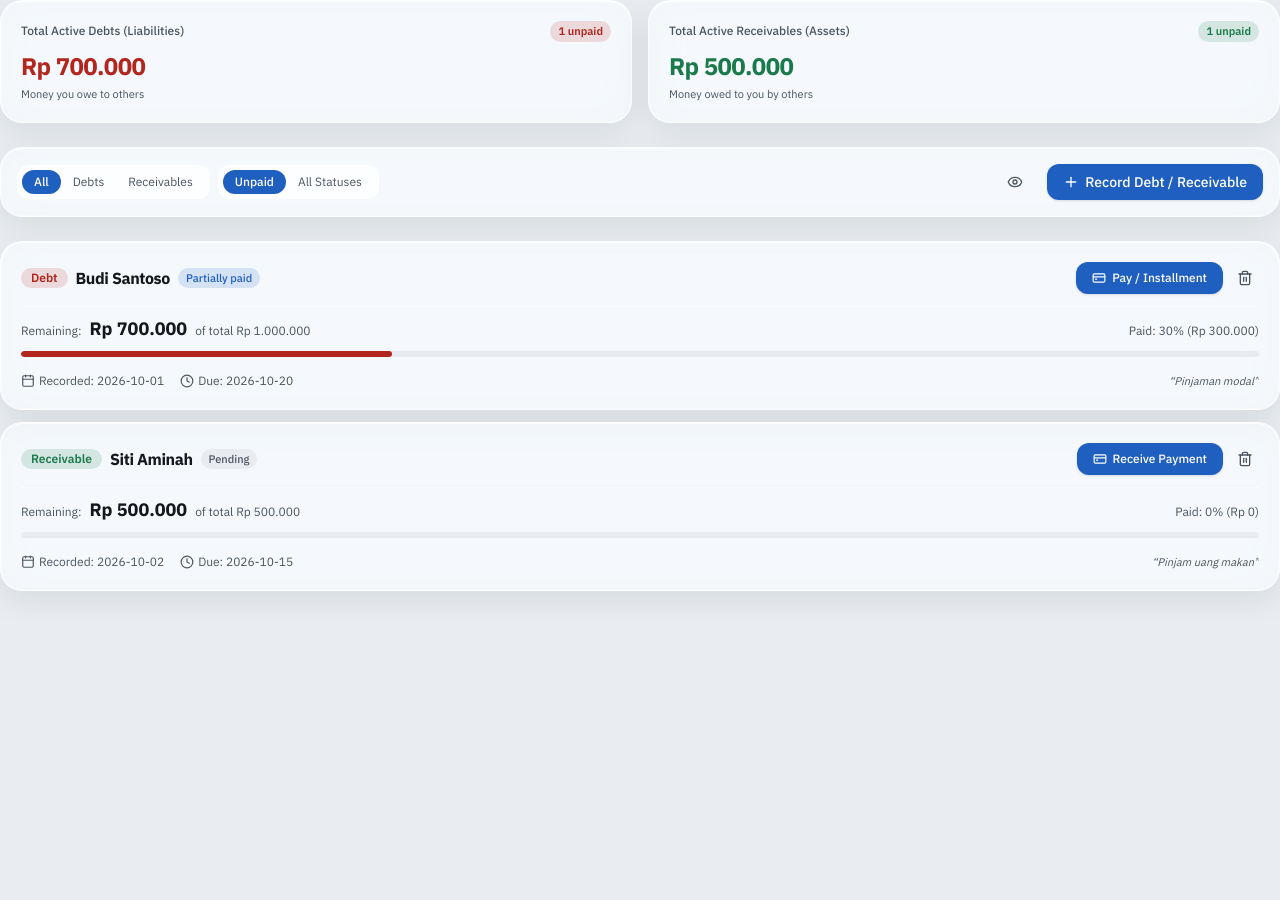
Test: DebtView › shows settled items when 'All Statuses' is selected
Click the button "All Statuses": (330, 182) x1=286 y1=170 x2=374 y2=194
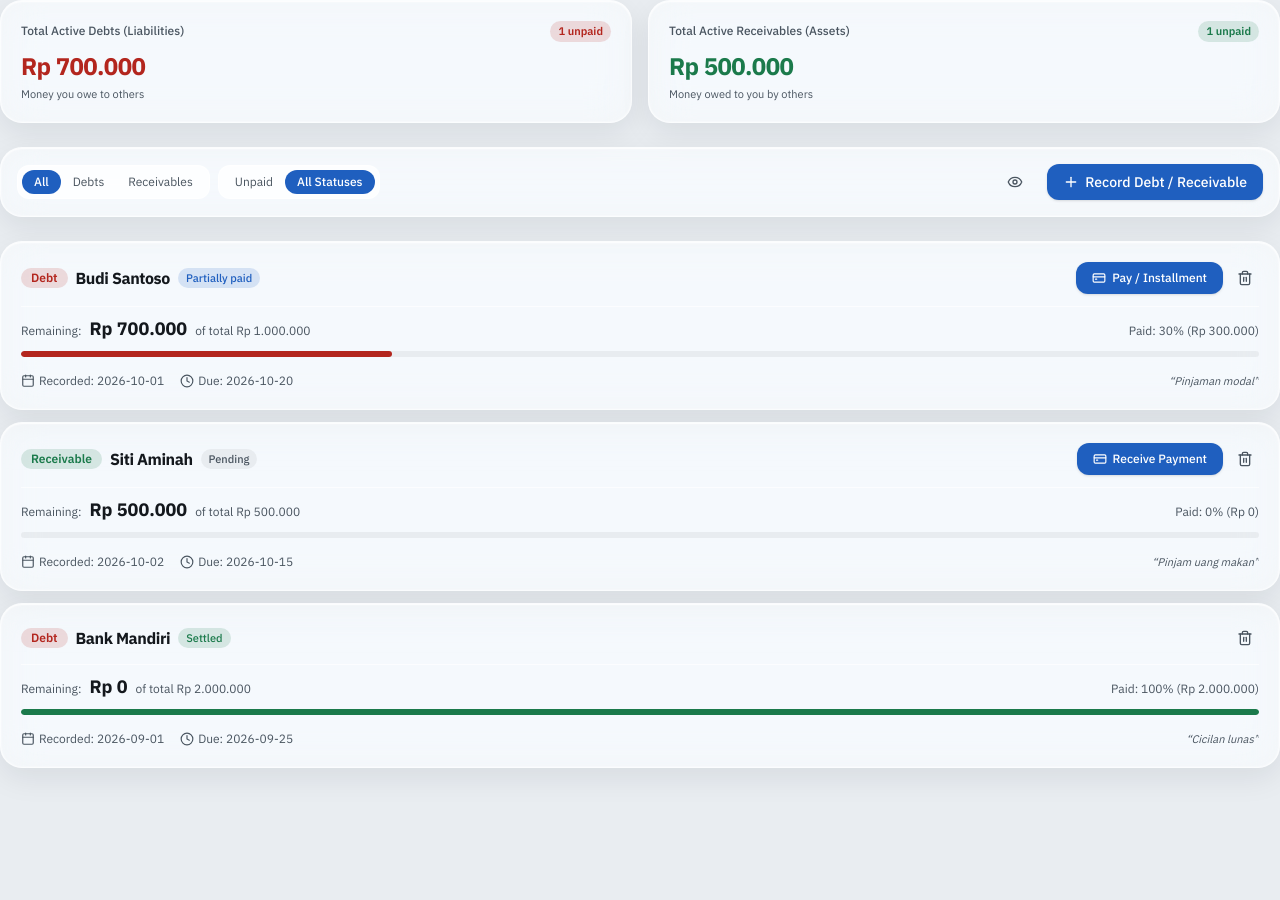
Now the text "Bank Mandiri" is shown, box x1=76 y1=626 x2=170 y2=650
Now the text "Settled" is shown, box x1=178 y1=628 x2=231 y2=648
